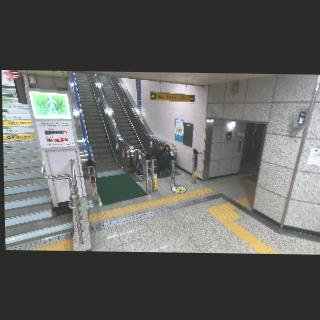anomaly: (148, 143, 173, 176)
